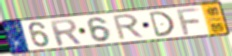6: (86, 16, 113, 44), (28, 21, 52, 48)
D: (147, 10, 177, 38)
F: (175, 7, 202, 36)
R: (47, 18, 83, 47), (112, 13, 146, 41)
